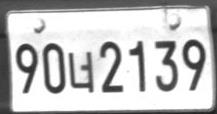0: (41, 42, 65, 94)
1: (126, 40, 151, 91)
2: (98, 40, 123, 93)
3: (154, 40, 178, 92)
9: (181, 38, 205, 91), (14, 43, 38, 93)
너: (68, 51, 94, 93)
